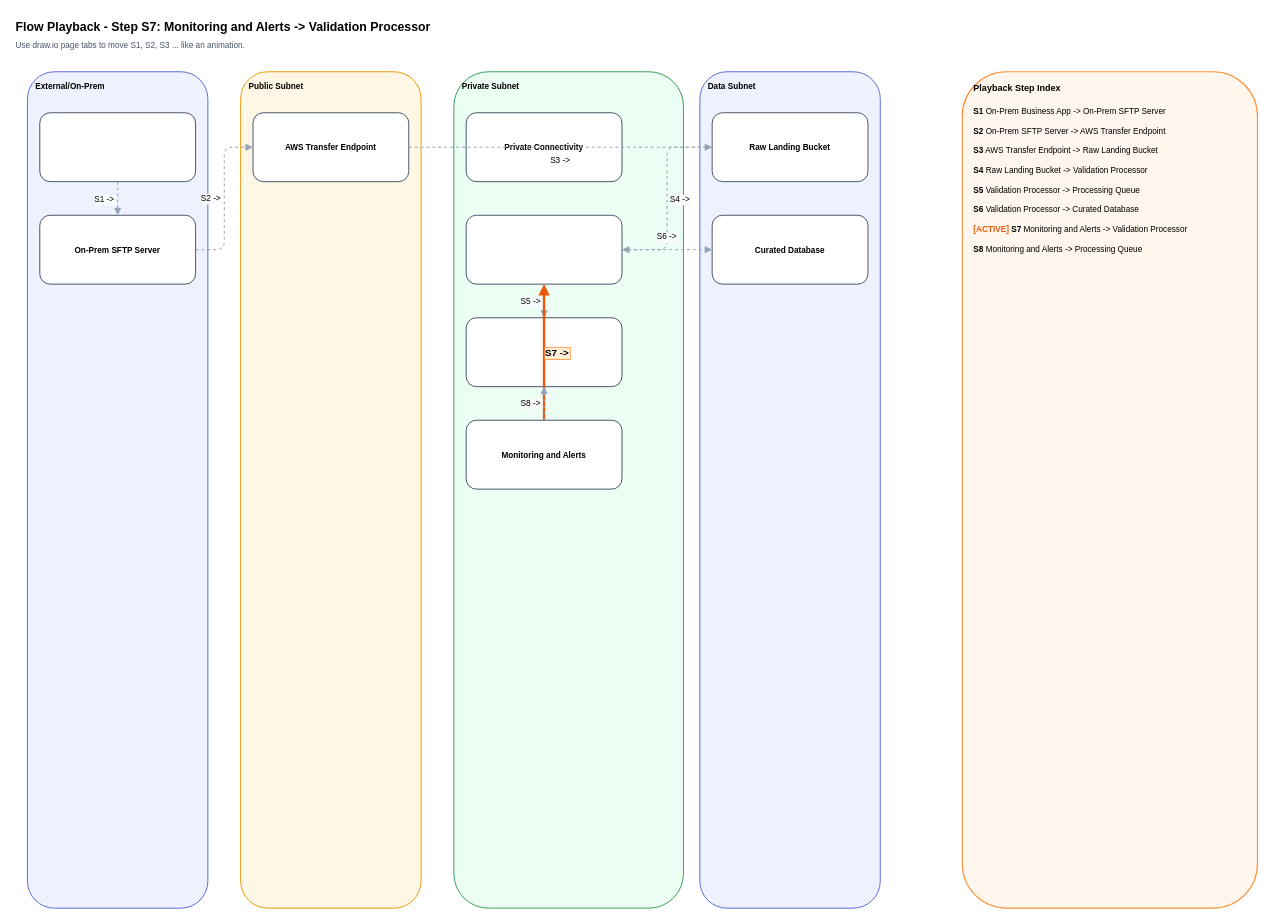
Image size: 1272x923. Some labels were removed from this diagram. Here are the shapes that lost their labels. From the top down, the box of each, then its label:
(39, 112, 196, 182): On-Prem Business App
(465, 214, 622, 284): Validation Processor
(465, 317, 622, 387): Processing Queue
